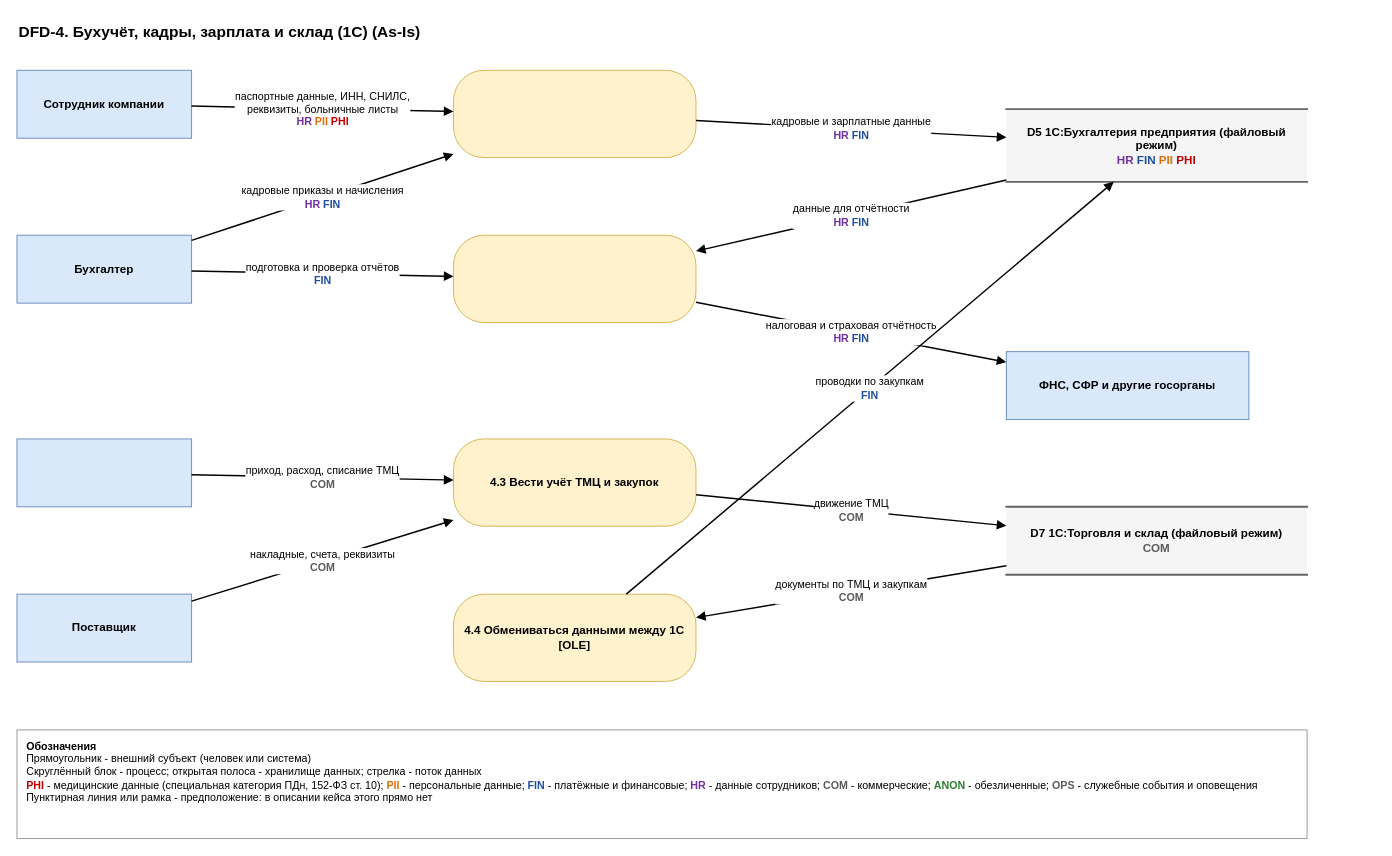
This 1392x856 diagram has some shape labels left out. Here are the shapes that lost their labels. From the top down, the centre of each, then its label:
pixel 574 113: 4.1 Вести кадровый учёт и начислять зарплату
pixel 574 278: 4.2 Готовить отчётность в ФНС и фонды
pixel 104 472: Кладовщик
